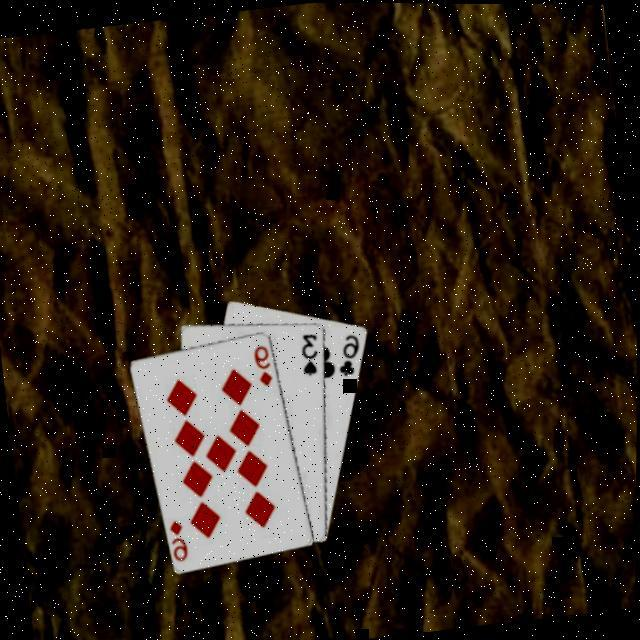3S: (296, 326, 325, 376)
6C: (332, 326, 367, 377)
9D: (250, 338, 277, 386), (166, 513, 193, 561)
